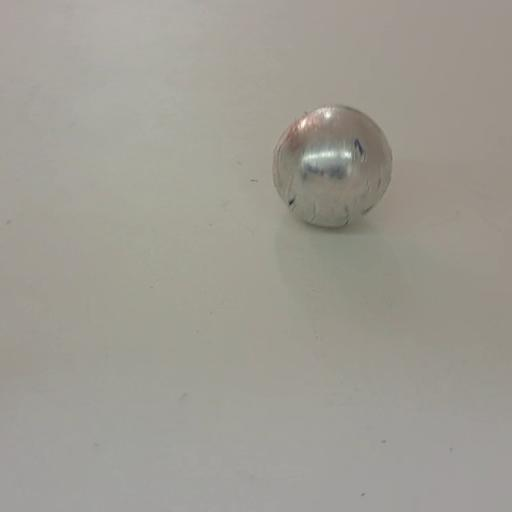alive: (272, 106, 390, 228)
